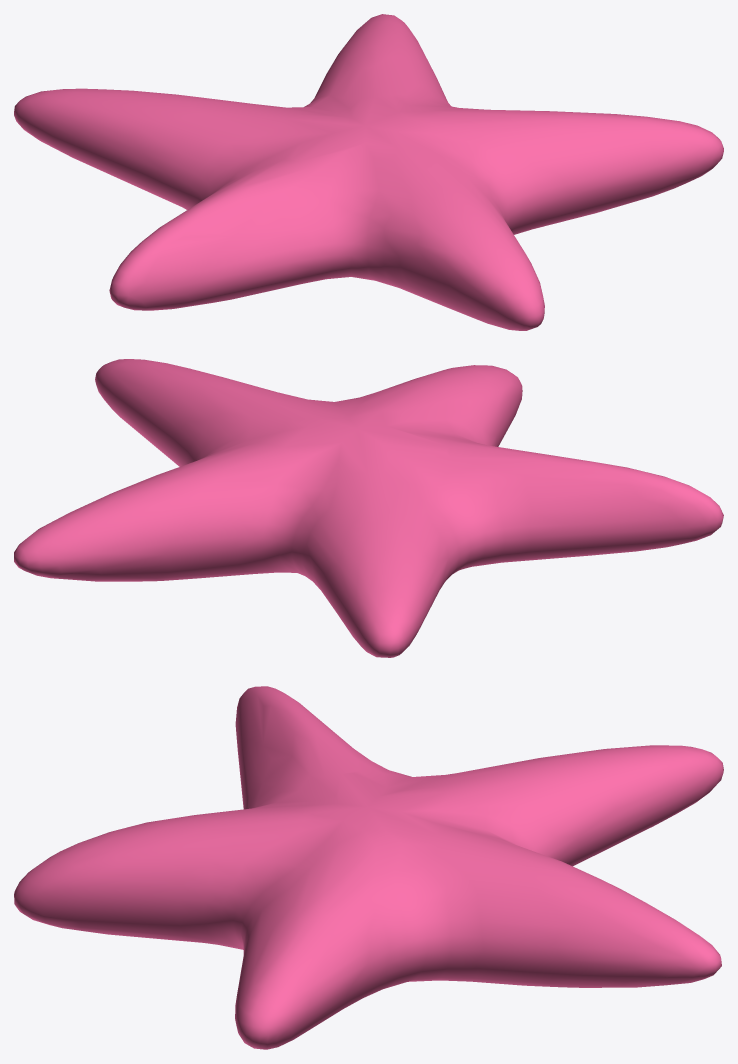
The model's file is Lowpoly_Starfish.fbx.
3 views of the same model, one above another, from view 1: azimuth 30°, elevation 25°; view 2: azimuth 150°, elevation 25°; view 3: azimuth 270°, elevation 25° (orthographic). The views are drawn at different scales.
Visible parts, largest first — view 1: Starfish_4; view 2: Starfish_4; view 3: Starfish_4.
Part boxes in pixels (box(x1,y1,x2,y2)): Starfish_4: box(14, 14, 723, 330); Starfish_4: box(14, 359, 723, 657); Starfish_4: box(14, 686, 723, 1049).
Size of the model in its own units: 43283 by 7689 by 39393.
